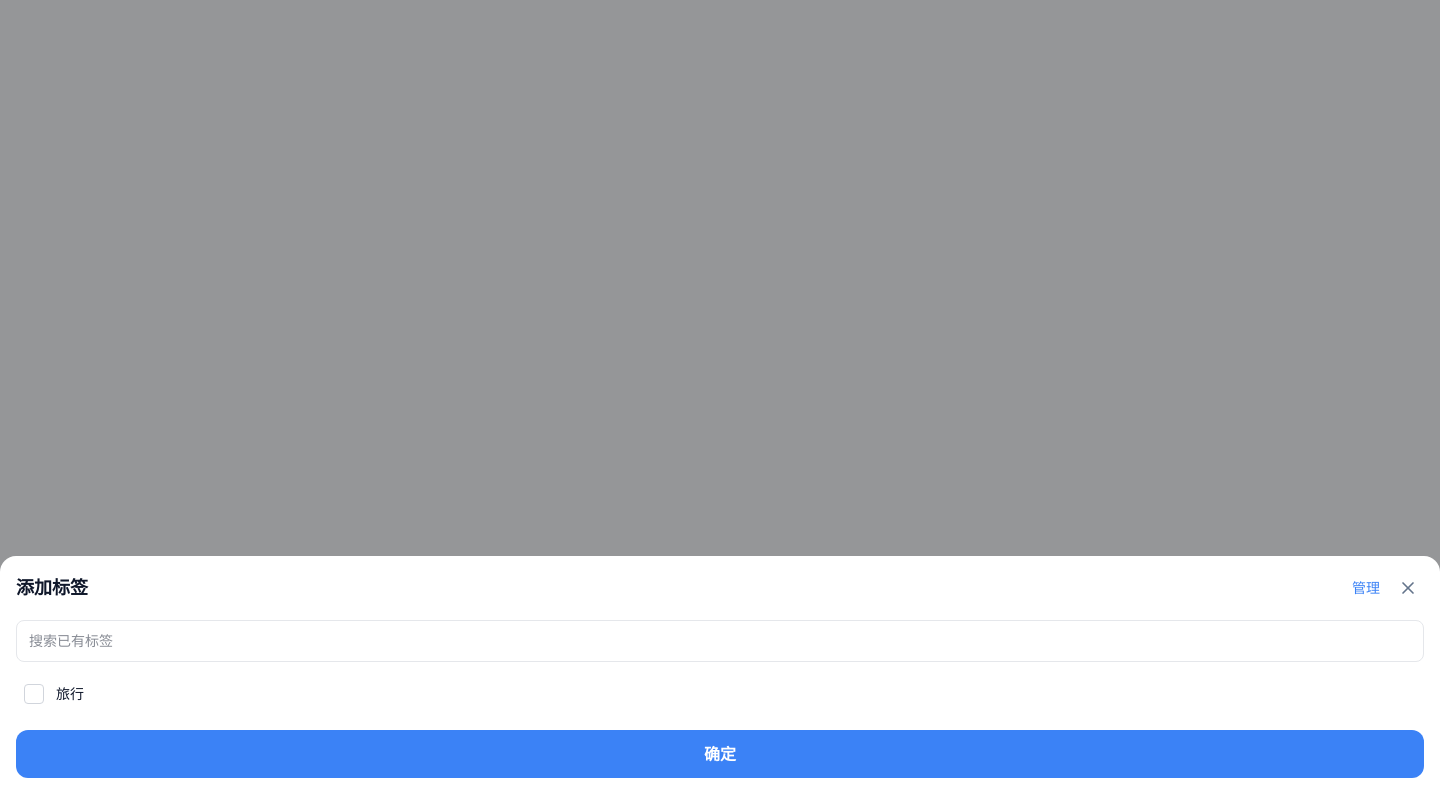
Scenario: TagSheet 管理模式 › 改名冲突时展示错误并停留在表单
Click the button "管理": point(1366, 588) [1344, 574, 1388, 602]
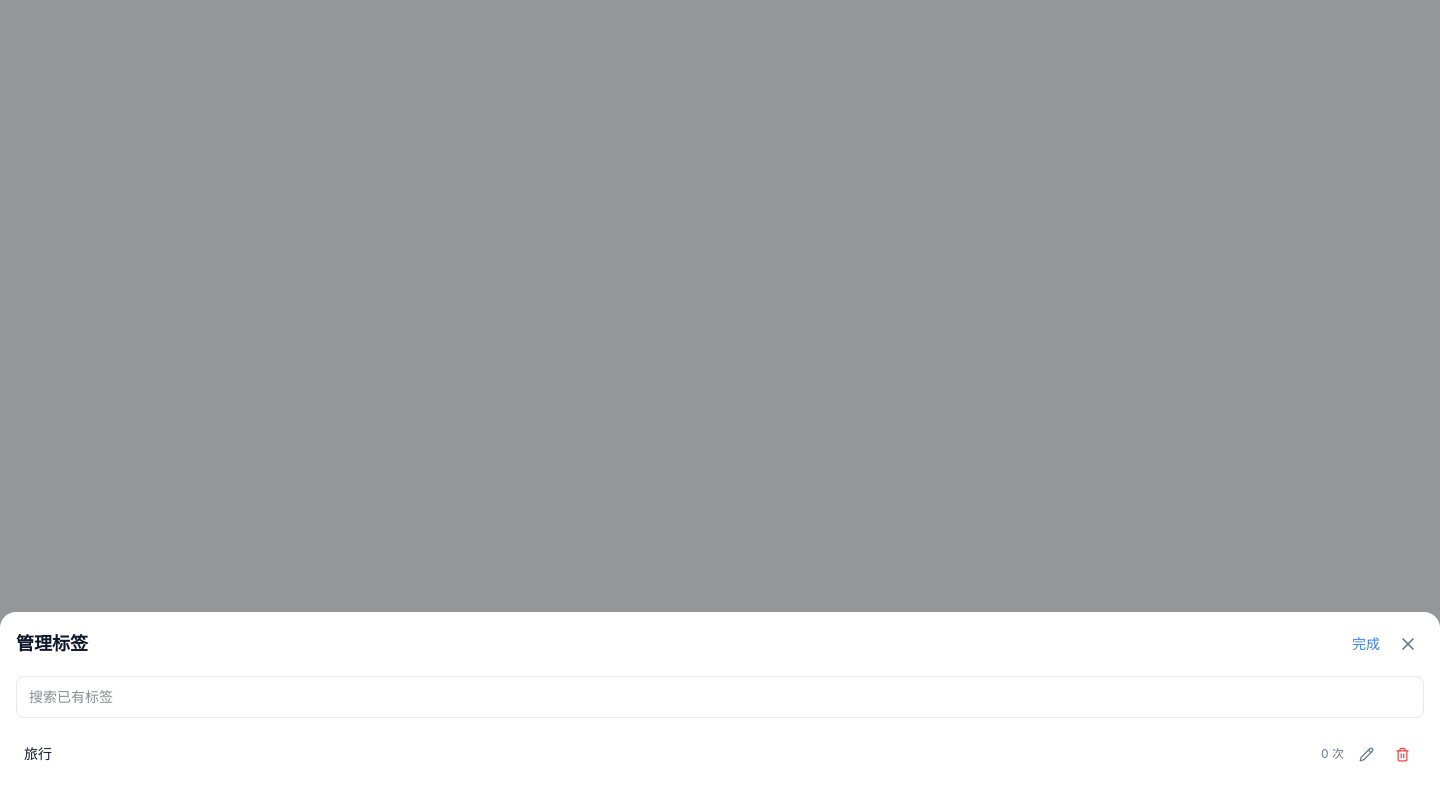
Click the button with test id "tag-edit": point(1366, 754) [1352, 740, 1380, 768]
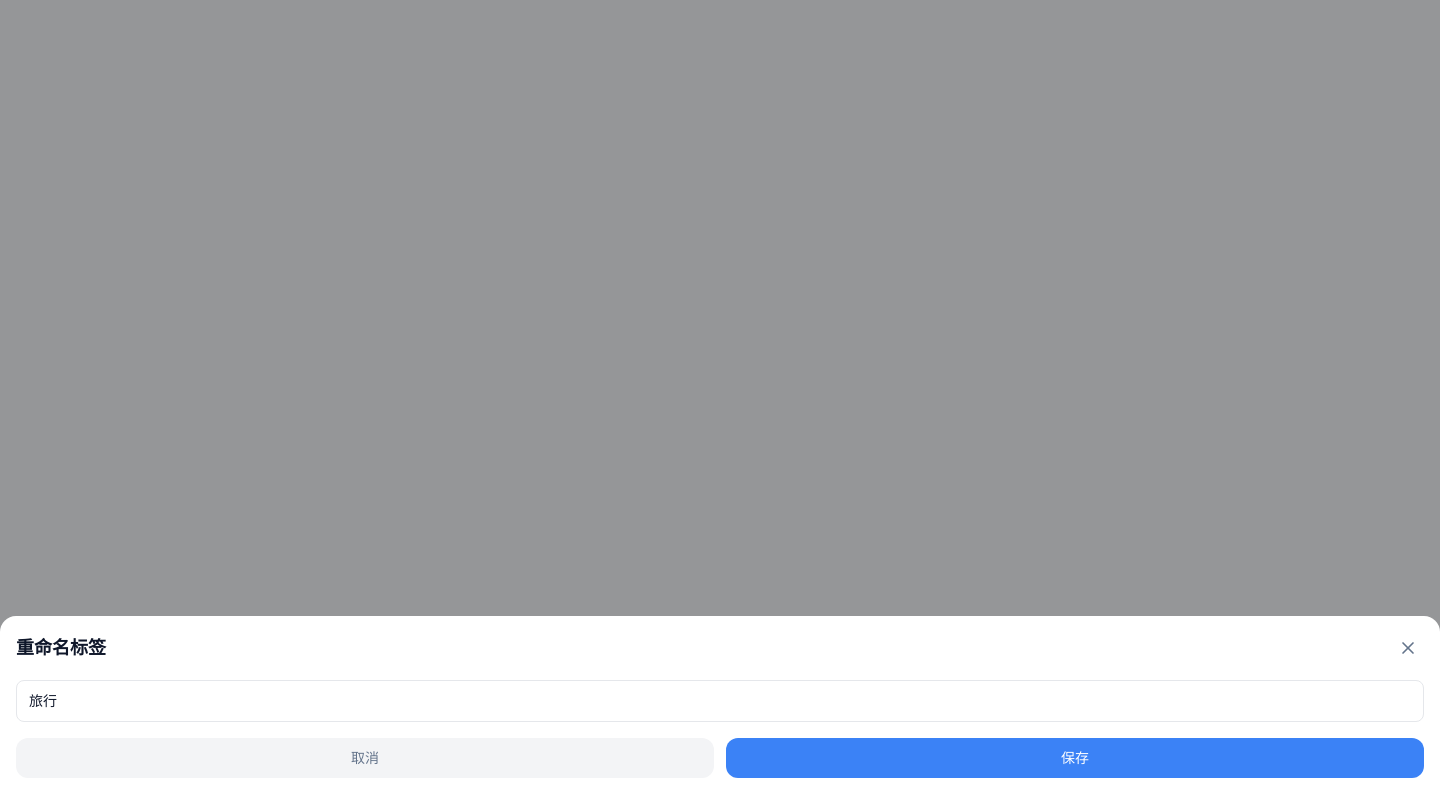
Click the button "保存": point(1075, 758) [726, 738, 1424, 778]
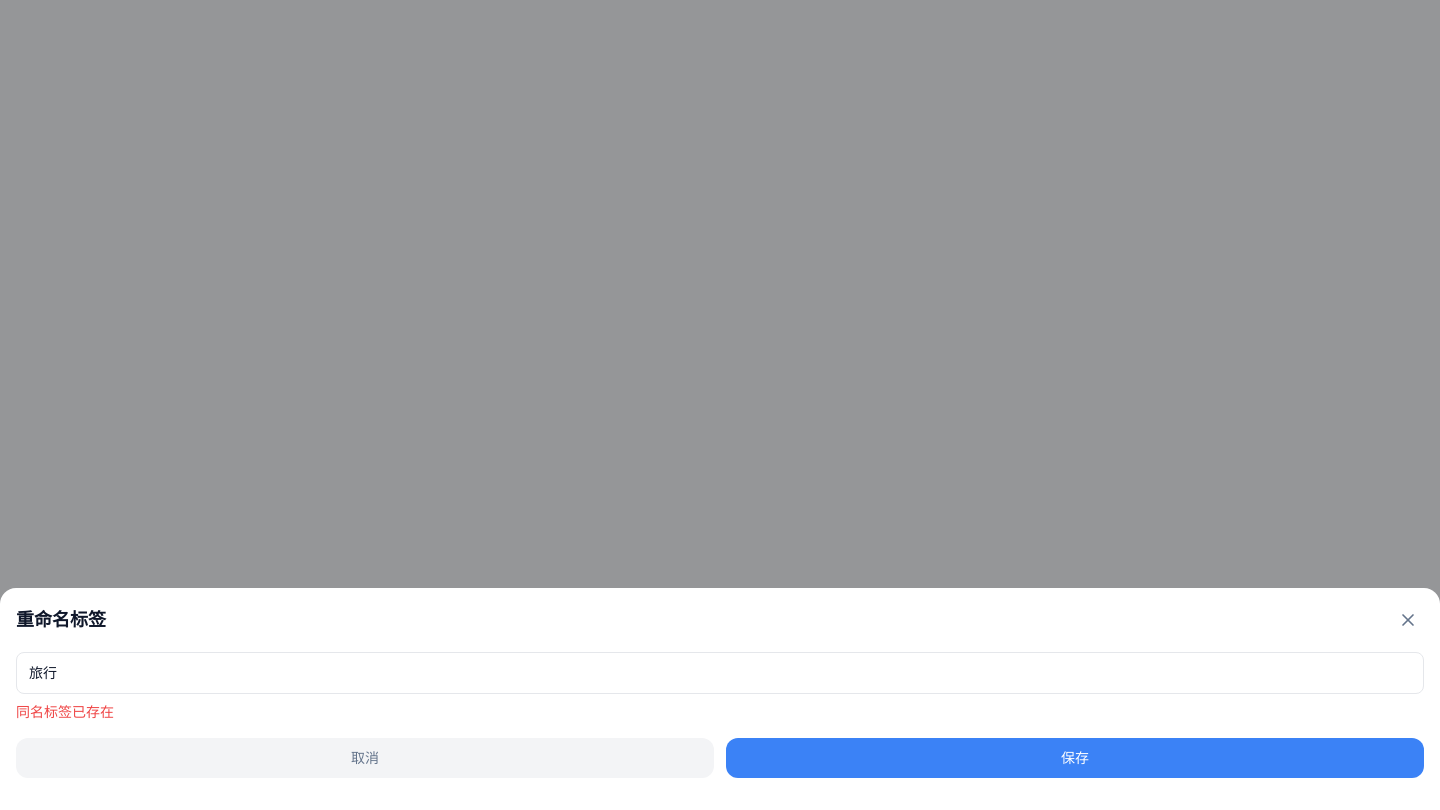
Result: the field with test id "tag-name-input" is shown at [16, 652, 1424, 694]
Result: the text "同名标签已存在" is shown at [16, 703, 114, 720]
